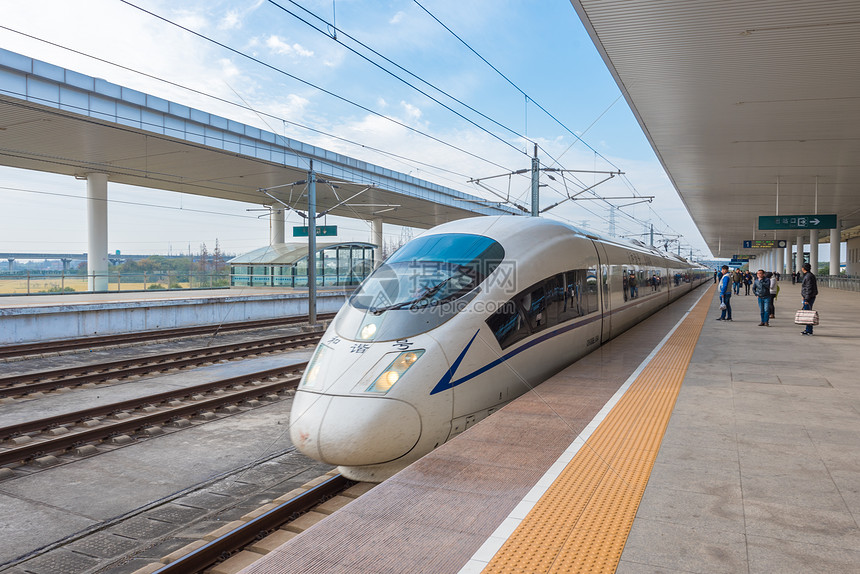hsrw: (286, 212, 721, 487)
